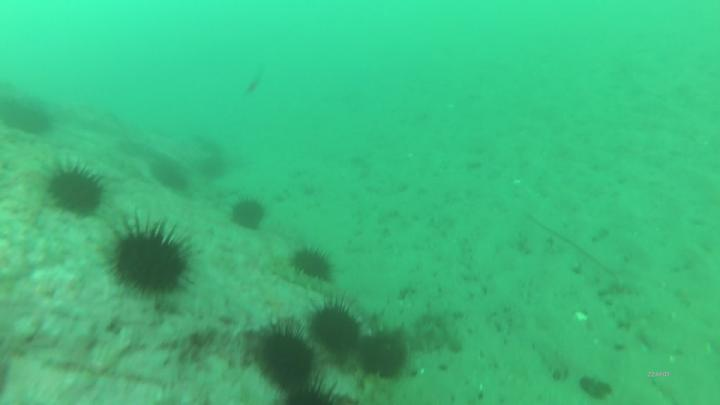echinus: (97, 213, 199, 304), (248, 323, 322, 392), (43, 161, 108, 221), (309, 303, 366, 360), (354, 331, 414, 378), (274, 383, 359, 405), (5, 102, 55, 139), (292, 246, 339, 285), (149, 154, 190, 193), (232, 196, 270, 233)
holothurian: (273, 264, 344, 300), (353, 369, 409, 405)
